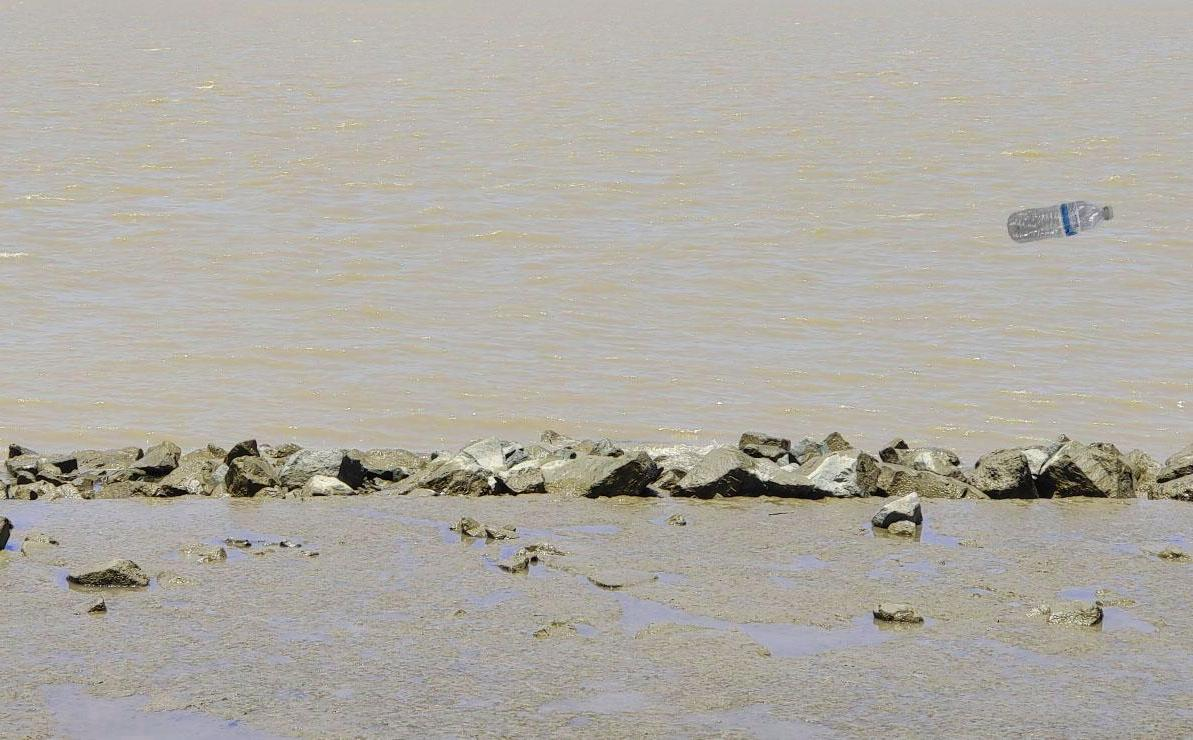Plastic: (1004, 197, 1115, 247)
